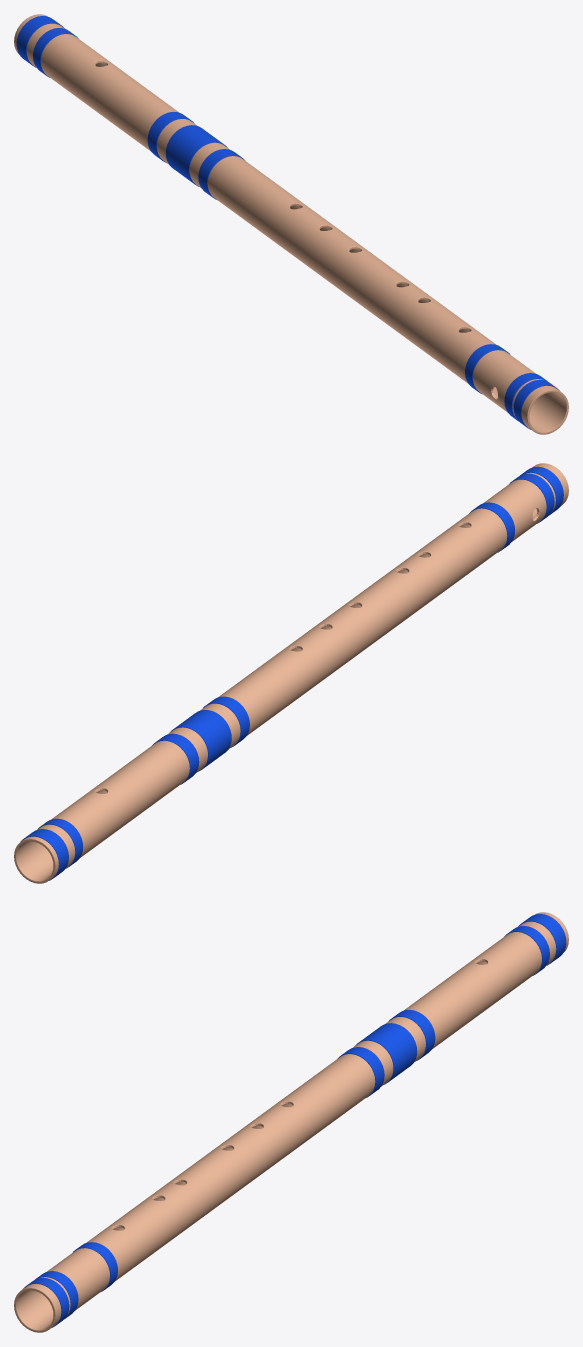
File: FluteHighPoly.fbx
3 renders of one model, top to bottom at view 1: azimuth 30°, elevation 25°; view 2: azimuth 150°, elevation 25°; view 3: azimuth 330°, elevation 25°, orthographic.
Parts seen in each view (by area): view 1: FluteHighPoly; view 2: FluteHighPoly; view 3: FluteHighPoly.
Boxes of the visible parts, x1,y1,x2,y2 form: FluteHighPoly: [14, 14, 568, 434]; FluteHighPoly: [14, 463, 568, 883]; FluteHighPoly: [14, 912, 568, 1332].
Size of the model in its own units: 206 by 206 by 4251.
